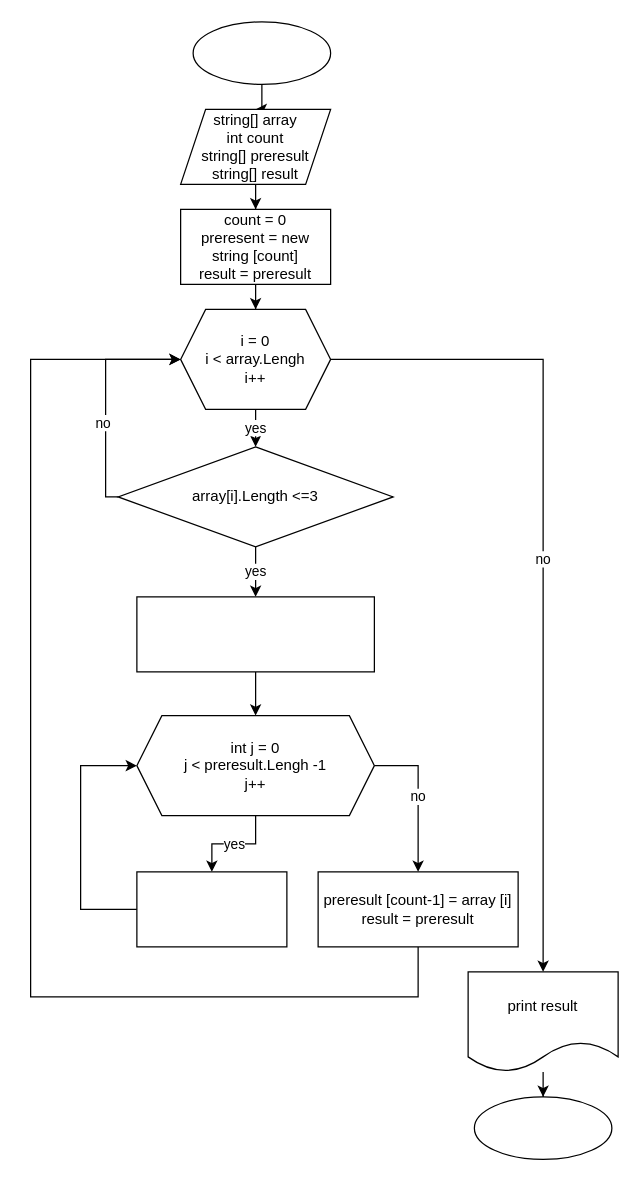
Image size: 640x1181. Some labels were removed from this diagram. Each missing label, with the centre of its shape:
count++ preresult = new string [count]: the point at 255,634
end: the point at 542,1127
preresult[j] = result [j]: the point at 211,909
start: the point at 261,52
